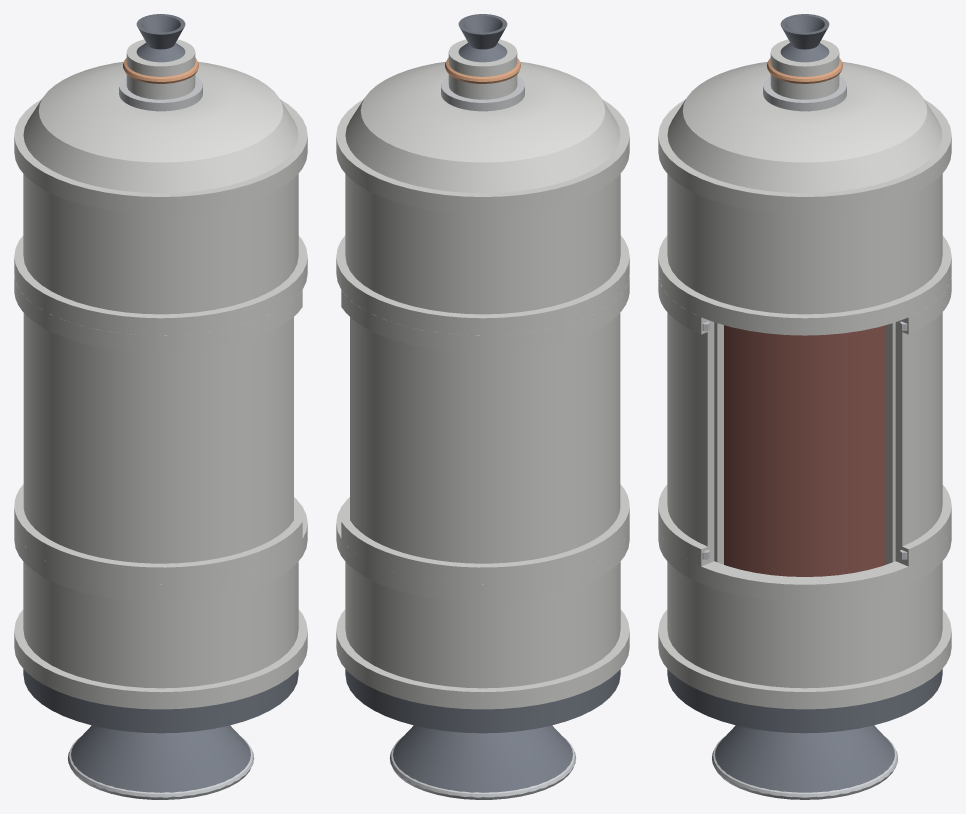
The model's file is engine_srm.glb.
The picture shows the model from 3 angles, left to right: view 1: azimuth 30°, elevation 25°; view 2: azimuth 150°, elevation 25°; view 3: azimuth 270°, elevation 25°; orthographic projection.
Visible parts, largest first — view 1: mid-casing, forward-casing, aft-casing, nozzle, flex-joint, igniter; view 2: mid-casing, forward-casing, aft-casing, nozzle, flex-joint, igniter; view 3: forward-casing, propellant-grain, aft-casing, mid-casing, nozzle, flex-joint, igniter, liner.
Boxes of the visible parts, <box> form: mid-casing: <box>14,275,302,584</box>; forward-casing: <box>14,61,307,335</box>; aft-casing: <box>14,497,307,709</box>; nozzle: <box>67,725,254,799</box>; flex-joint: <box>23,669,298,733</box>; igniter: <box>119,14,202,111</box>; mid-casing: <box>341,275,629,584</box>; forward-casing: <box>336,61,629,335</box>; aft-casing: <box>336,497,629,709</box>; nozzle: <box>389,725,576,799</box>; flex-joint: <box>345,669,620,733</box>; igniter: <box>441,14,524,111</box>; forward-casing: <box>658,61,951,335</box>; propellant-grain: <box>724,325,885,576</box>; aft-casing: <box>658,524,951,709</box>; mid-casing: <box>658,275,951,566</box>; nozzle: <box>712,725,897,799</box>; flex-joint: <box>667,669,942,733</box>; igniter: <box>763,14,846,111</box>; liner: <box>714,322,895,564</box>.
Size of the model in its own units: 0.384 by 1.07 by 0.384.
